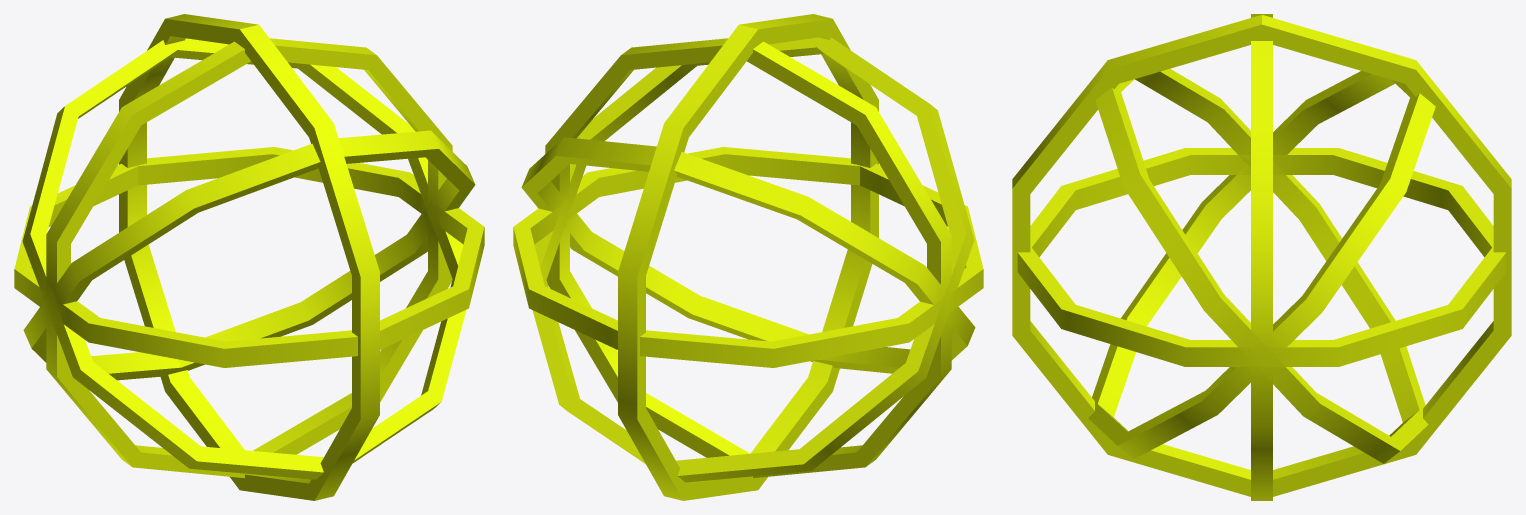
Rendered from Decoration_2.FBX.
3 renders of one model, left to right at view 1: azimuth 30°, elevation 25°; view 2: azimuth 150°, elevation 25°; view 3: azimuth 270°, elevation 25°, orthographic. The views are drawn at different scales.
Parts seen in each view (by area): view 1: decorarion; view 2: decorarion; view 3: decorarion.
Part boxes in pixels (<box>): decorarion: <box>14,14,484,500</box>; decorarion: <box>513,14,983,500</box>; decorarion: <box>1012,14,1511,500</box>.
Bounding box in the file's own units: 0.9115 × 1.01 × 0.9645.
